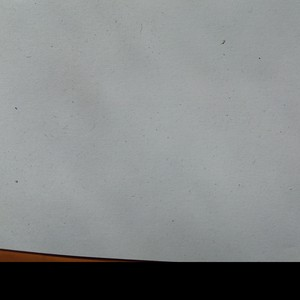base: (1, 1, 298, 250)
